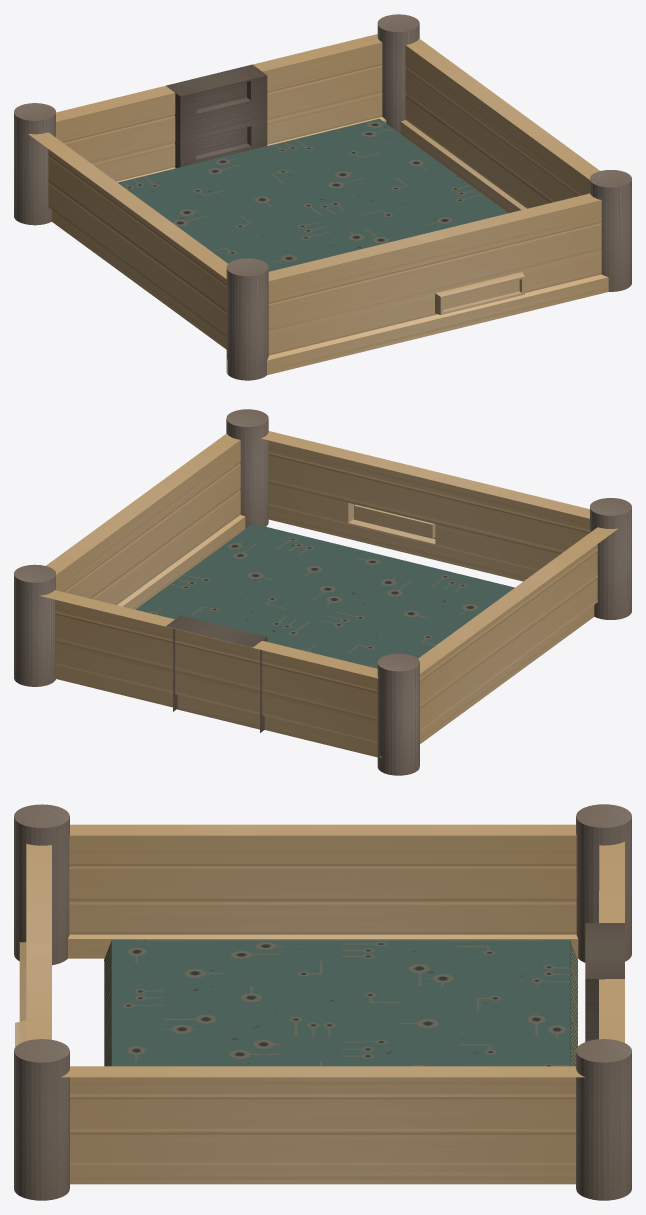
The model's file is radio_in.fbx.
3 renders of one model, top to bottom at view 1: azimuth 30°, elevation 25°; view 2: azimuth 150°, elevation 25°; view 3: azimuth 270°, elevation 25°, orthographic. The views are drawn at different scales.
Parts seen in each view (by area): view 1: parede baixa, Placa, parede cima, parece direita, parece esquerda, porta, coluna.003, coluna, coluna.002, coluna.001; view 2: Placa, parede cima, parede baixa, parece direita, parece esquerda, coluna, coluna.001, coluna.003, coluna.002, porta; view 3: parece direita, parece esquerda, Placa, coluna.001, coluna.002, parede baixa, coluna.003, coluna, parede cima, porta.
Boxes of the visible parts, box(x1,y1,x2,y2) form: parede baixa: box(267, 193, 608, 375); Placa: box(118, 118, 508, 271); parede cima: box(56, 34, 386, 182); parece direita: box(400, 38, 599, 212); parece esquerda: box(28, 132, 227, 374); porta: box(166, 64, 267, 168); coluna.003: box(226, 258, 268, 380); coluna: box(14, 103, 55, 225); coluna.002: box(590, 170, 631, 291); coluna.001: box(377, 14, 419, 133); Placa: box(135, 523, 514, 668); parede cima: box(39, 590, 381, 757); parede baixa: box(261, 431, 589, 581); parece direita: box(46, 433, 245, 609); parece esquerda: box(418, 527, 627, 743); coluna: box(377, 653, 419, 775); coluna.001: box(14, 564, 55, 686); coluna.003: box(590, 498, 631, 619); coluna.002: box(226, 409, 268, 528); porta: box(166, 615, 267, 732); parece direita: box(61, 1066, 584, 1184); parece esquerda: box(68, 824, 578, 958); Placa: box(104, 940, 577, 1066); coluna.001: box(576, 1039, 631, 1200); coluna.002: box(14, 1039, 69, 1200); parede baixa: box(15, 844, 51, 1047); coluna.003: box(14, 804, 69, 965); coluna: box(576, 804, 631, 962); parede cima: box(599, 841, 629, 1042); porta: box(585, 923, 624, 1041).
Size of the model in its own units: 920 by 229 by 930.
Materials: 10 (10 with a texture image).
